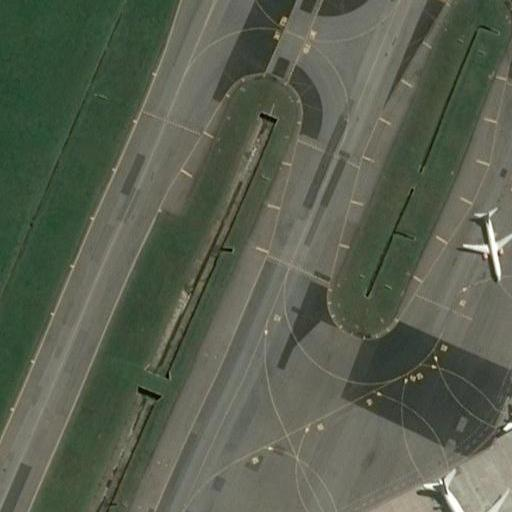Aircraft: (411, 467, 507, 512), (457, 202, 512, 276), (500, 381, 512, 480)
